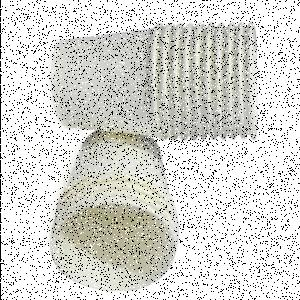Cup: (51, 136, 181, 294), (50, 23, 163, 143)
